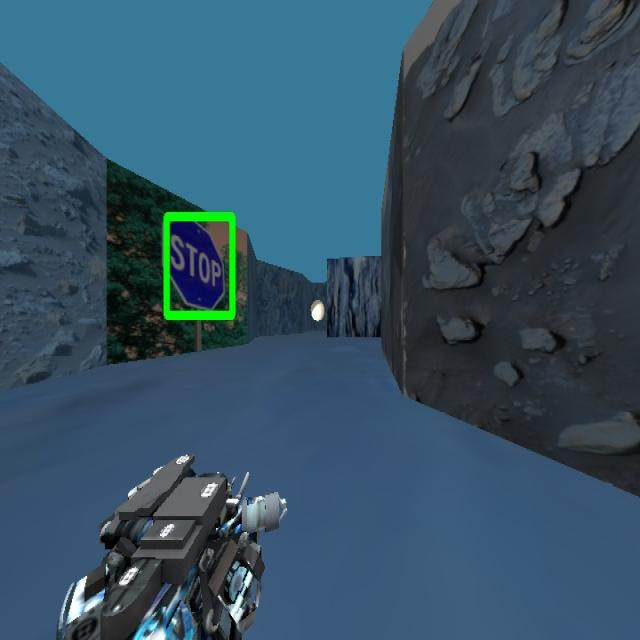Circle: (310, 300, 324, 322)
Stop_Sign: (162, 210, 236, 322)
